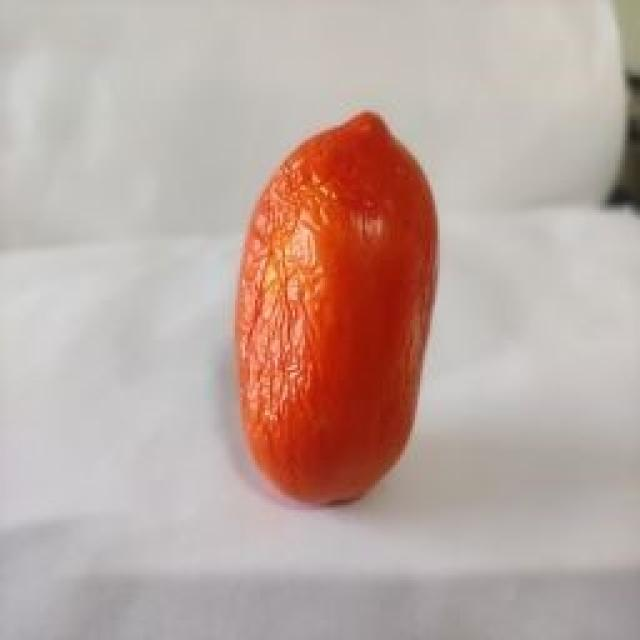overripe: (232, 104, 441, 507)
